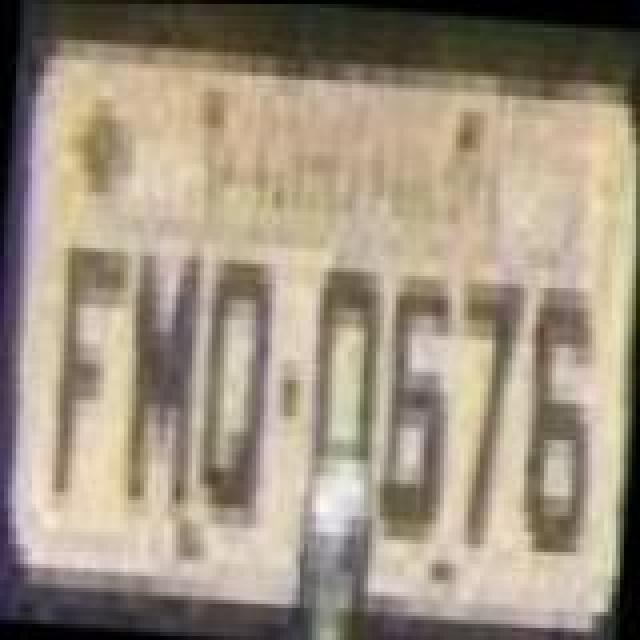6: (520, 262, 608, 558), (374, 266, 458, 538)
7: (442, 266, 526, 558)
F: (54, 244, 134, 504)
M: (122, 240, 210, 512)
O: (298, 262, 382, 506)
Q: (192, 242, 280, 526)
